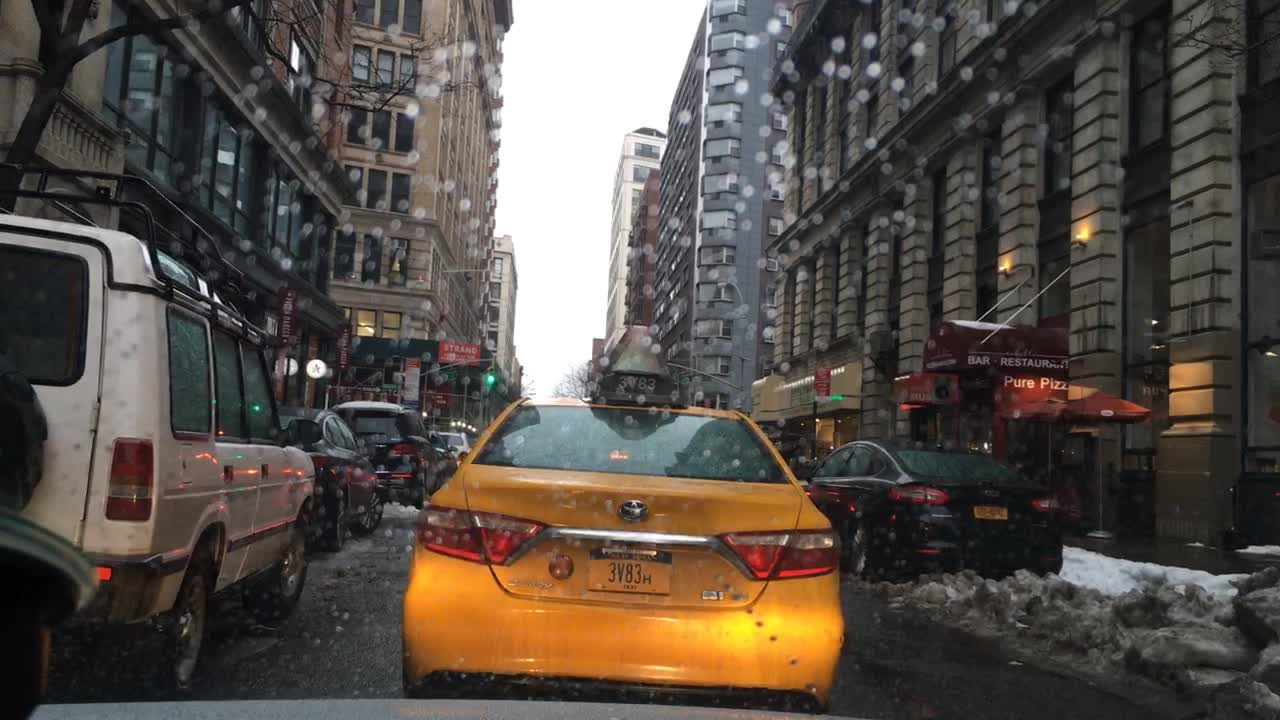car: (0, 157, 320, 700), (402, 370, 844, 712), (792, 435, 1065, 588), (277, 402, 385, 553), (327, 396, 442, 511), (424, 427, 456, 493), (434, 427, 469, 469)
traffic light: (484, 367, 494, 386)
